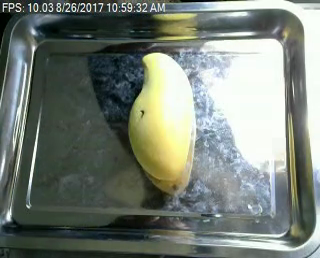Mango: (115, 48, 208, 201)
